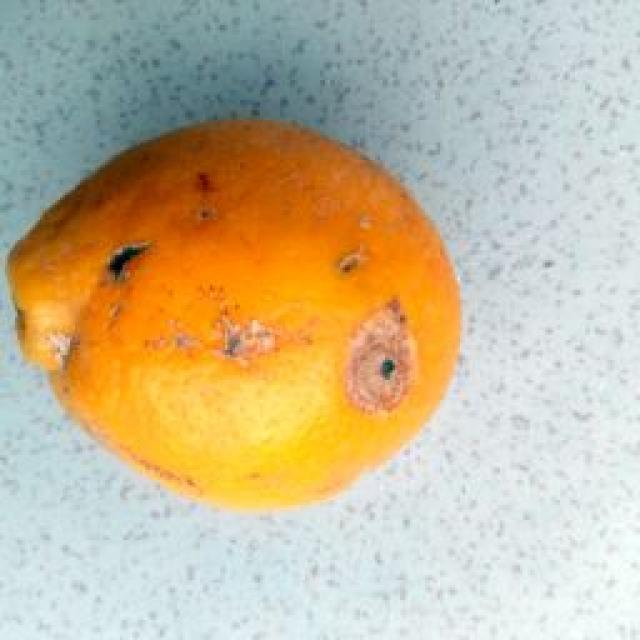Bad_Orange: (8, 122, 459, 508)
